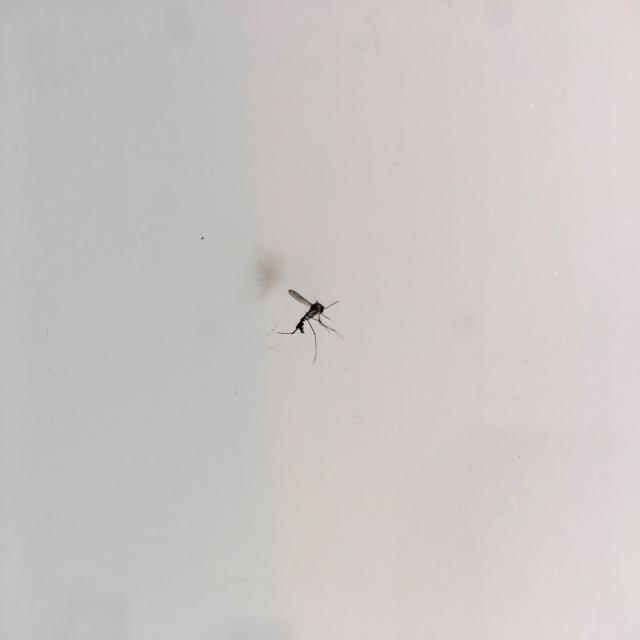albopictus: (268, 279, 347, 363)
